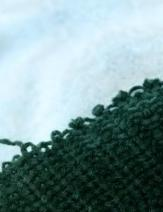snag: (0, 134, 43, 164)
